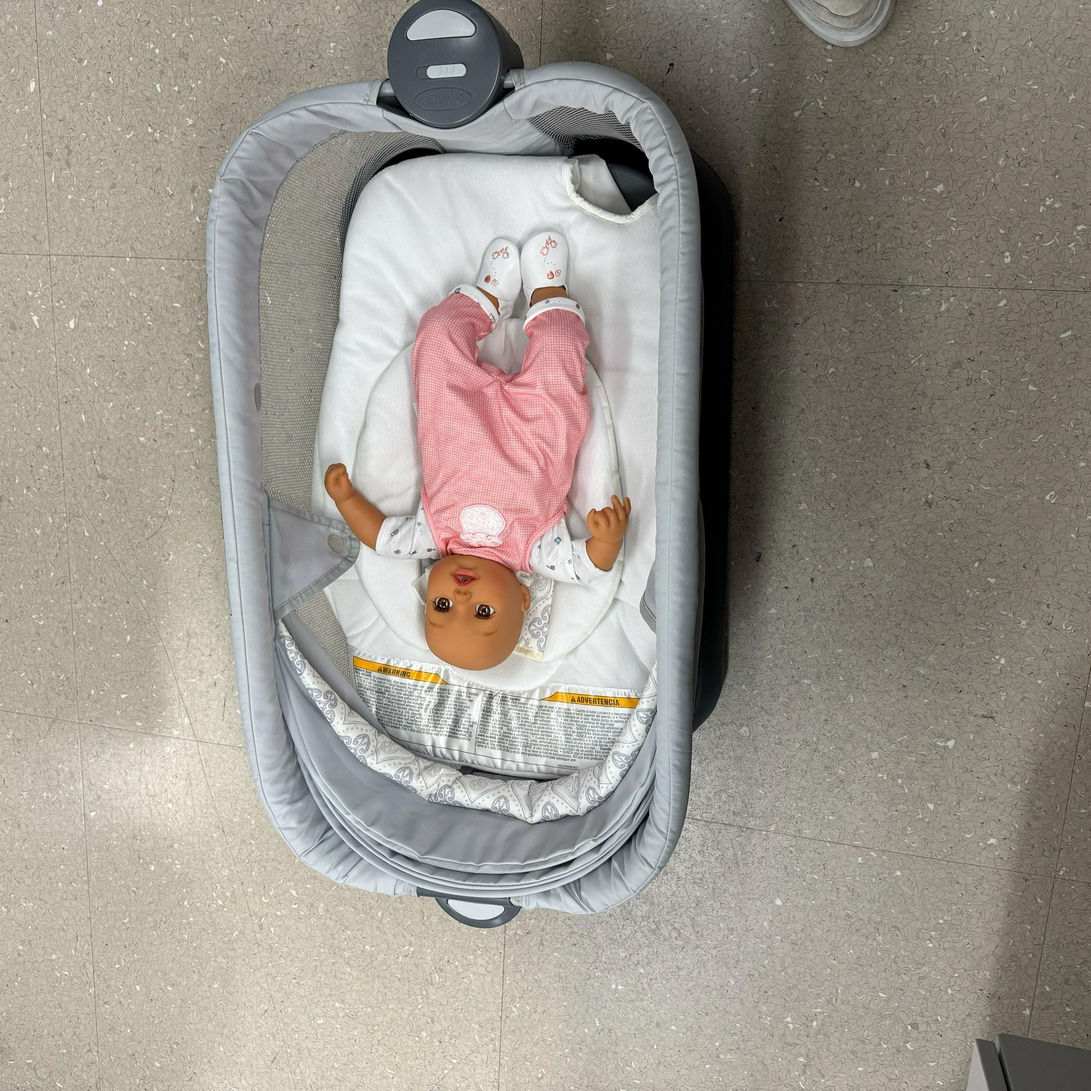baby: (322, 213, 641, 685)
